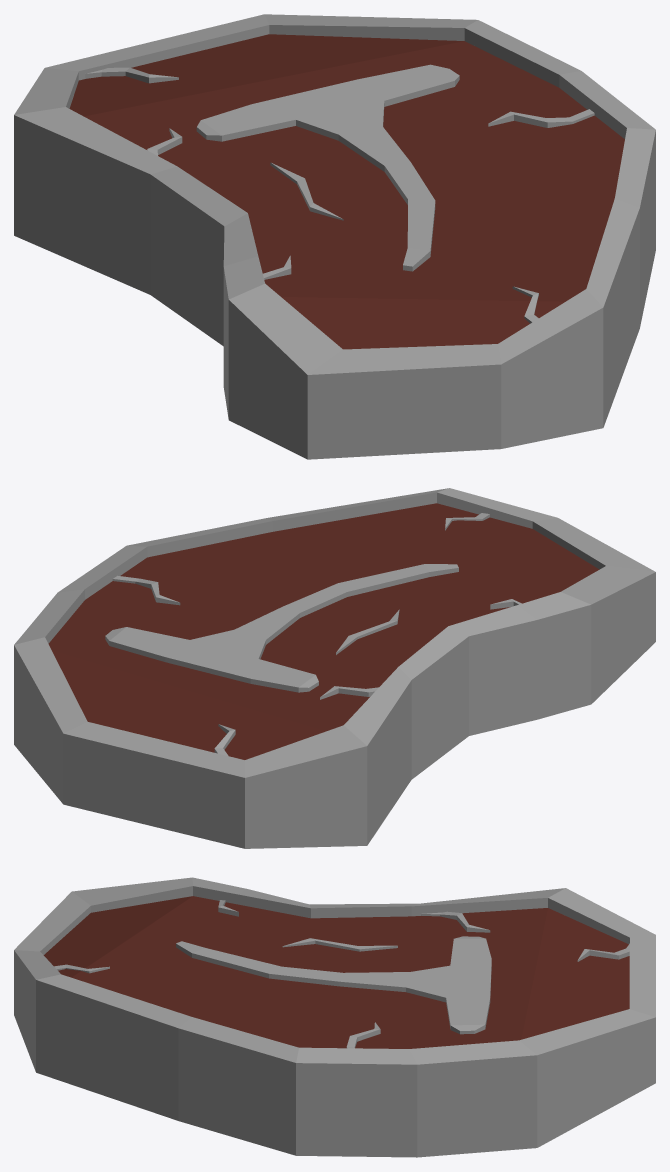
Rendered from ingredient_steak.glb.
3 renders of one model, top to bottom at view 1: azimuth 30°, elevation 25°; view 2: azimuth 150°, elevation 25°; view 3: azimuth 270°, elevation 25°, orthographic. The views are drawn at different scales.
Parts seen in each view (by area): view 1: Steak_Cube.012; view 2: Steak_Cube.012; view 3: Steak_Cube.012.
Part boxes in pixels (x1,y1,x2,y2): Steak_Cube.012: (14,14,655,459); Steak_Cube.012: (14,488,655,848); Steak_Cube.012: (14,877,655,1157).
Size of the model in its own units: 1.32 by 0.3396 by 1.91.
